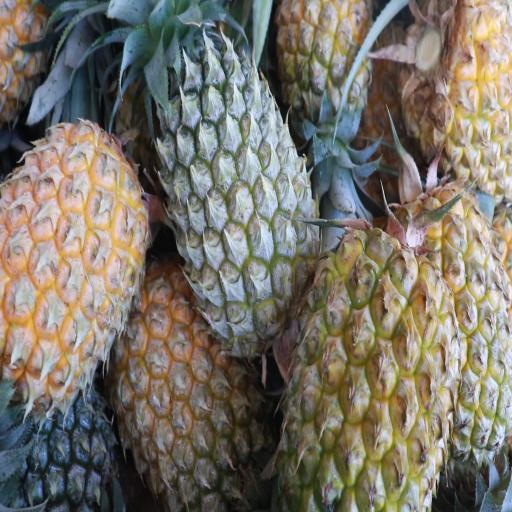------------------------------: (276, 0, 373, 187)
Pineapple - v8 v1: (278, 237, 448, 509), (0, 124, 149, 386), (115, 270, 269, 512), (390, 198, 512, 450), (396, 0, 512, 189)
